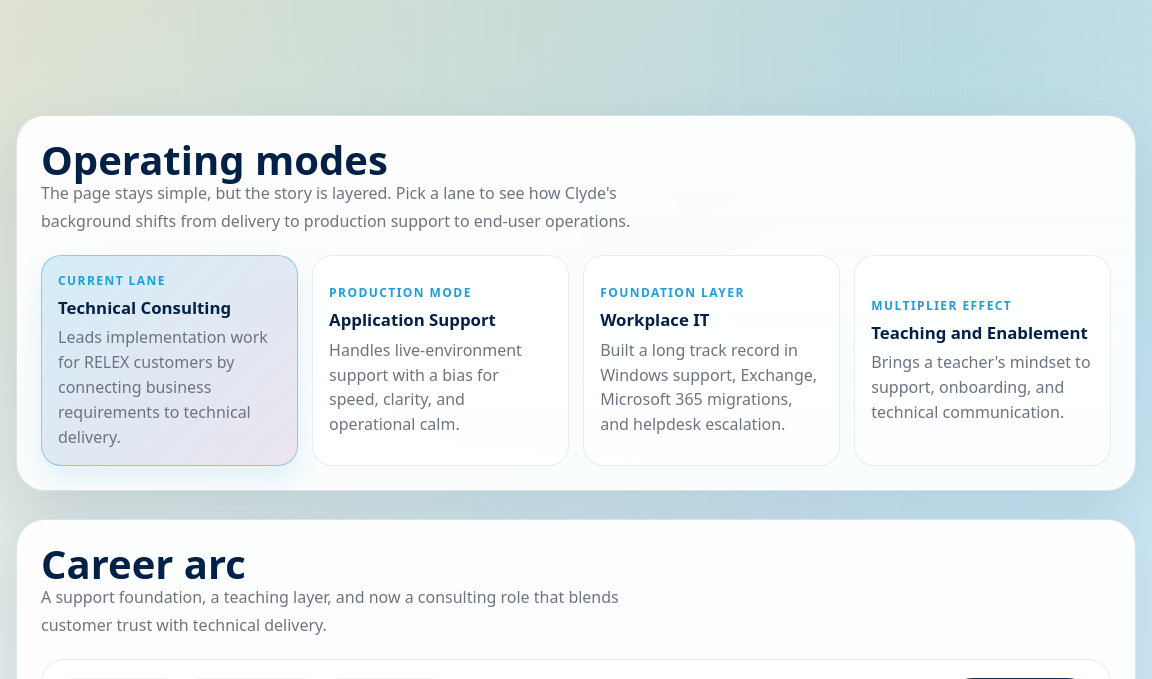
it: PortfolioShowcase › switches the highlighted operating mode
(page scrolled)
Click the button "Application Support": (440, 361) x1=312 y1=255 x2=569 y2=466
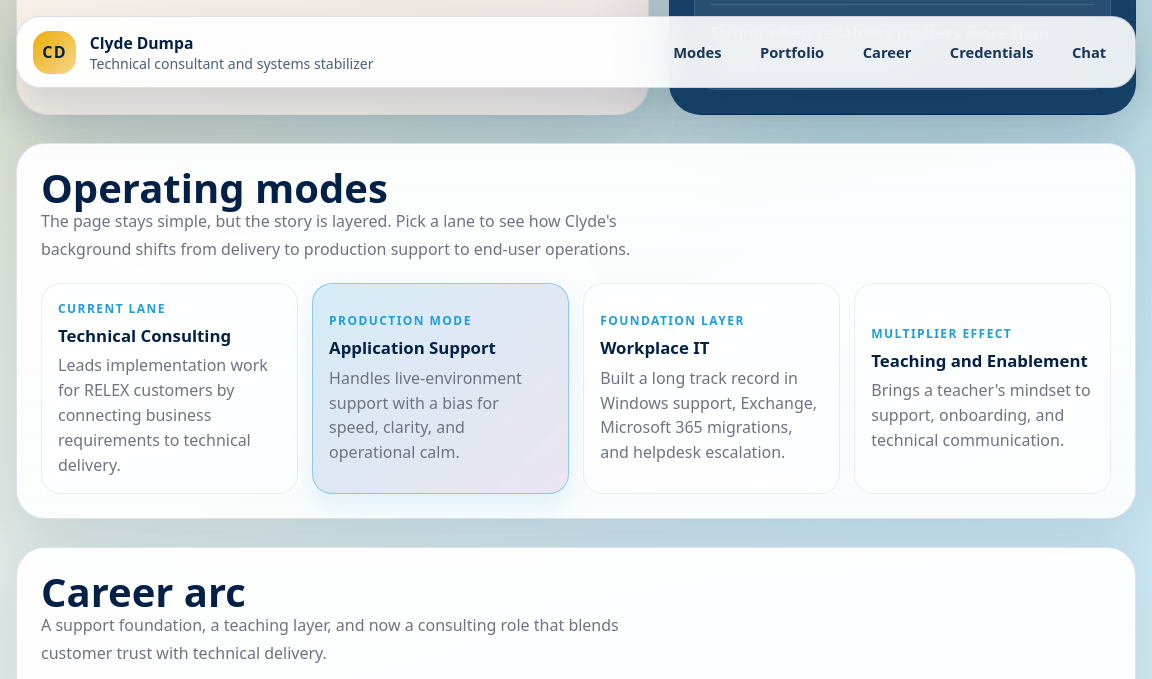
Expected: the text "Strong when reliability matters more than flashy architecture slides" is shown, x1=710 y1=22 x2=1049 y2=70
